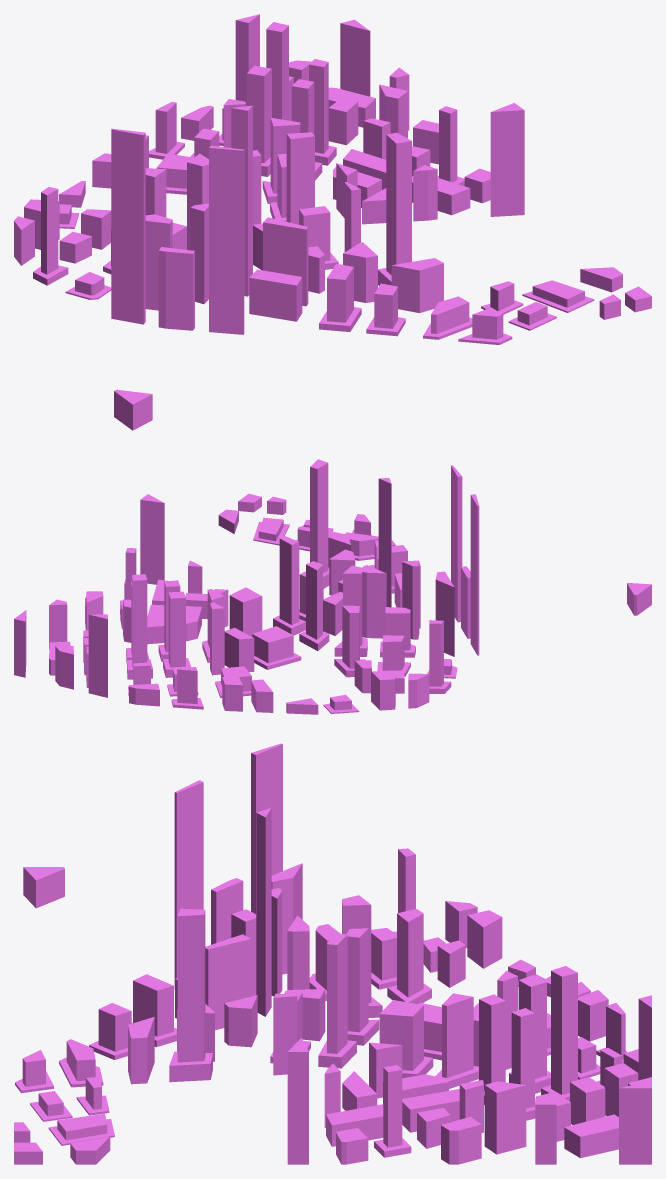
File: buildings_00235.obj
3 renders of one model, top to bottom at view 1: azimuth 30°, elevation 25°; view 2: azimuth 150°, elevation 25°; view 3: azimuth 270°, elevation 25°, orthographic. The views are drawn at different scales.
Size of the model in its own units: 1460 by 513 by 1460.
